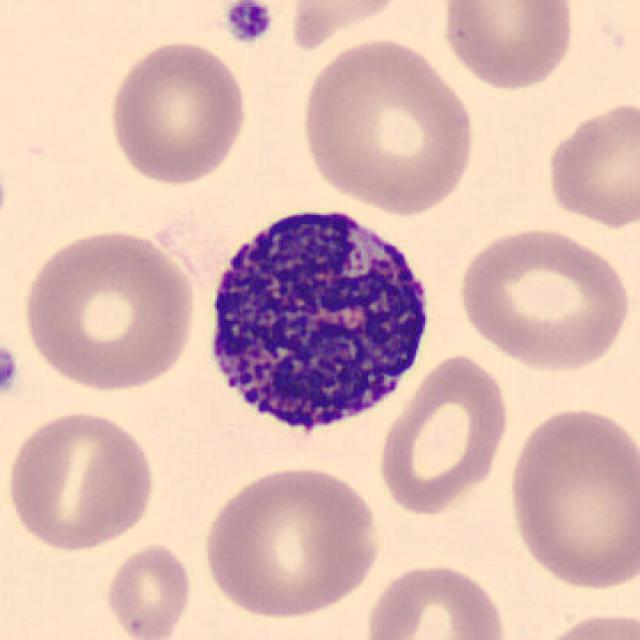Basophil: (194, 190, 442, 457)
Platelets: (220, 0, 278, 46), (0, 340, 21, 400)
RBC: (295, 33, 482, 217), (16, 226, 201, 395), (199, 460, 386, 622), (453, 220, 635, 374), (503, 400, 638, 596), (375, 349, 514, 518), (4, 406, 160, 554), (103, 37, 251, 189), (540, 97, 640, 233), (437, 0, 579, 93), (359, 559, 512, 640), (101, 539, 195, 640), (283, 0, 414, 55), (528, 608, 640, 640)
